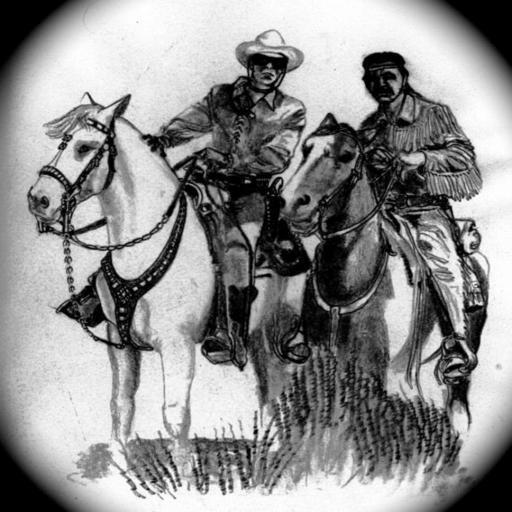horse: (26, 90, 318, 484), (274, 111, 492, 439)
